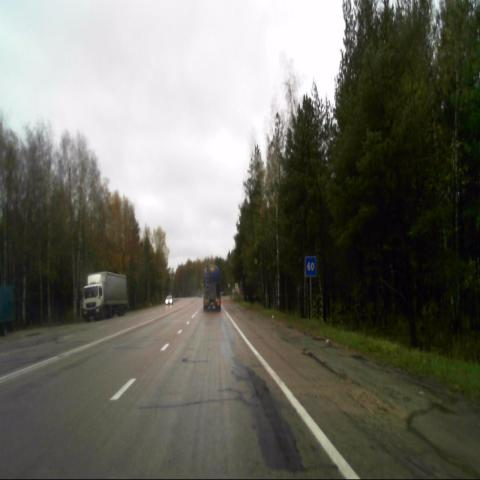6_2: (304, 256, 318, 277)
